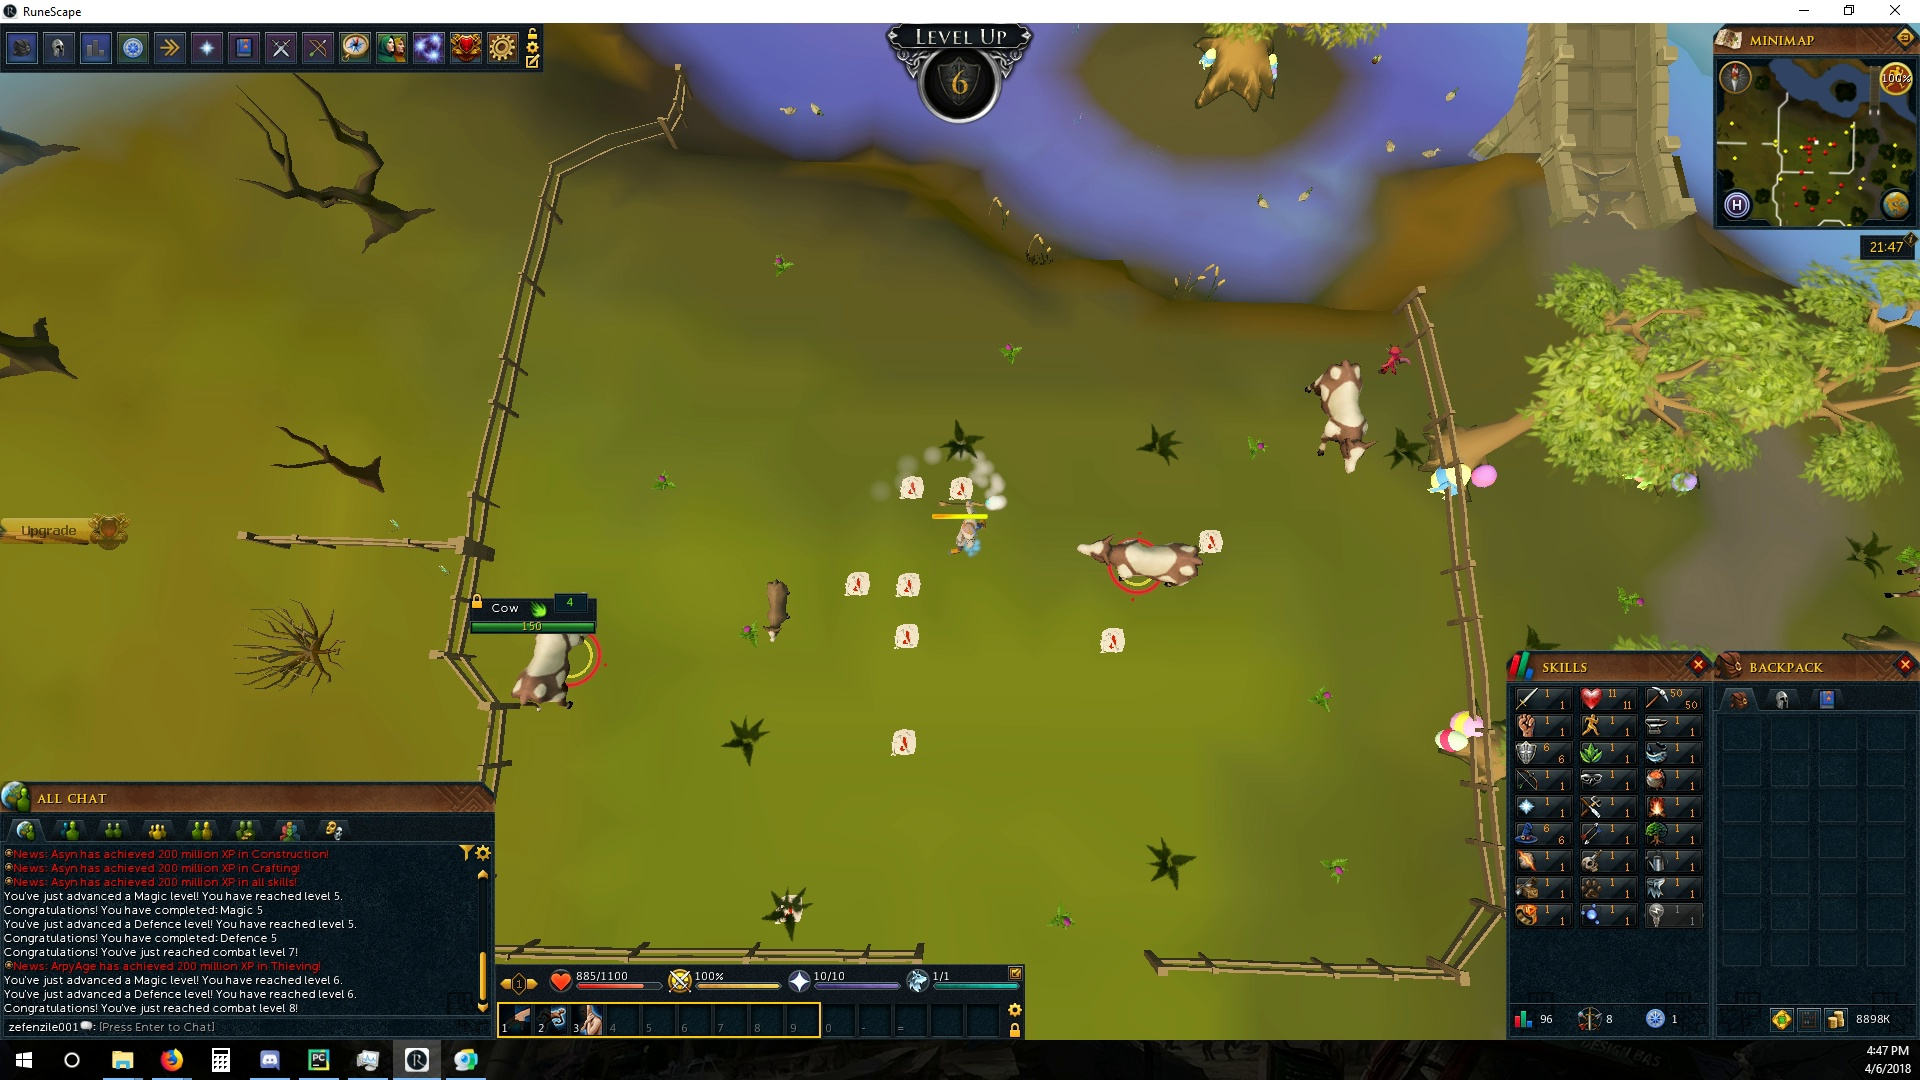calf: (760, 576, 789, 644)
cow: (1302, 359, 1374, 476), (1069, 534, 1205, 591), (508, 636, 591, 716)
cow_drop: (1191, 524, 1226, 556), (891, 568, 924, 600), (887, 724, 918, 758), (944, 473, 980, 502), (897, 475, 928, 505), (1095, 628, 1129, 655), (843, 568, 872, 597), (891, 622, 920, 647)
